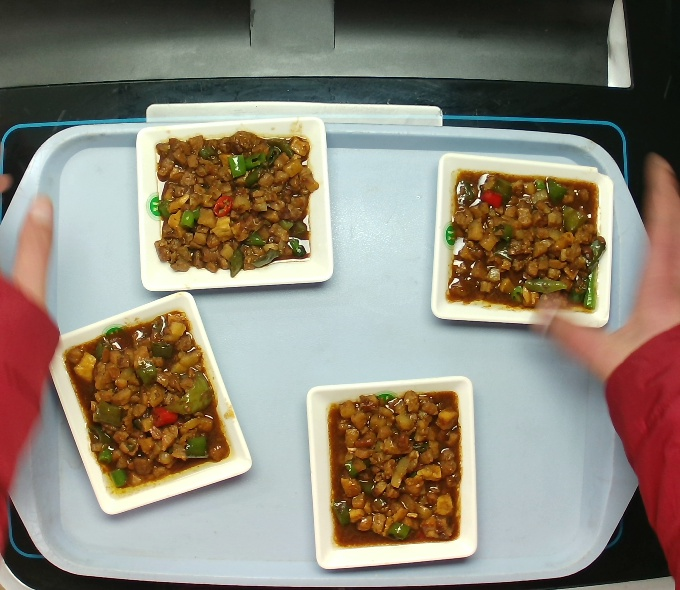wcq-XiaoJiangRou: (59, 307, 232, 495), (151, 127, 323, 281), (446, 167, 611, 319), (325, 384, 465, 549)
